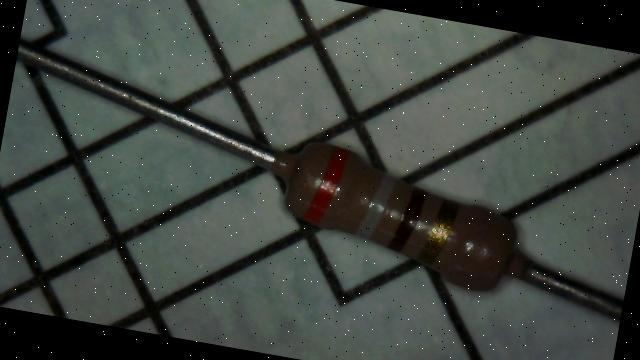brown: (389, 186, 427, 254)
gold: (418, 198, 458, 268)
orange: (302, 142, 352, 228)
resistor: (254, 111, 543, 318)
white: (356, 172, 396, 240)
